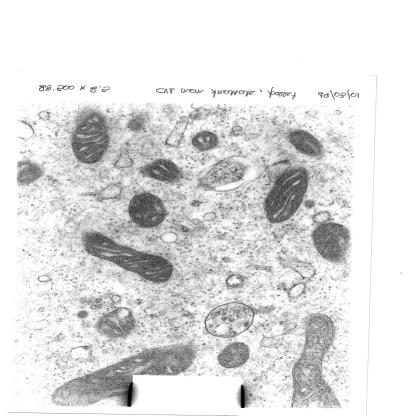mitochondria: (82, 231, 176, 284), (289, 315, 337, 408), (261, 170, 307, 224), (70, 110, 111, 164), (312, 221, 350, 264), (128, 192, 168, 228), (92, 308, 136, 338), (282, 131, 320, 158), (137, 159, 181, 182), (215, 342, 252, 368), (192, 129, 218, 150)
